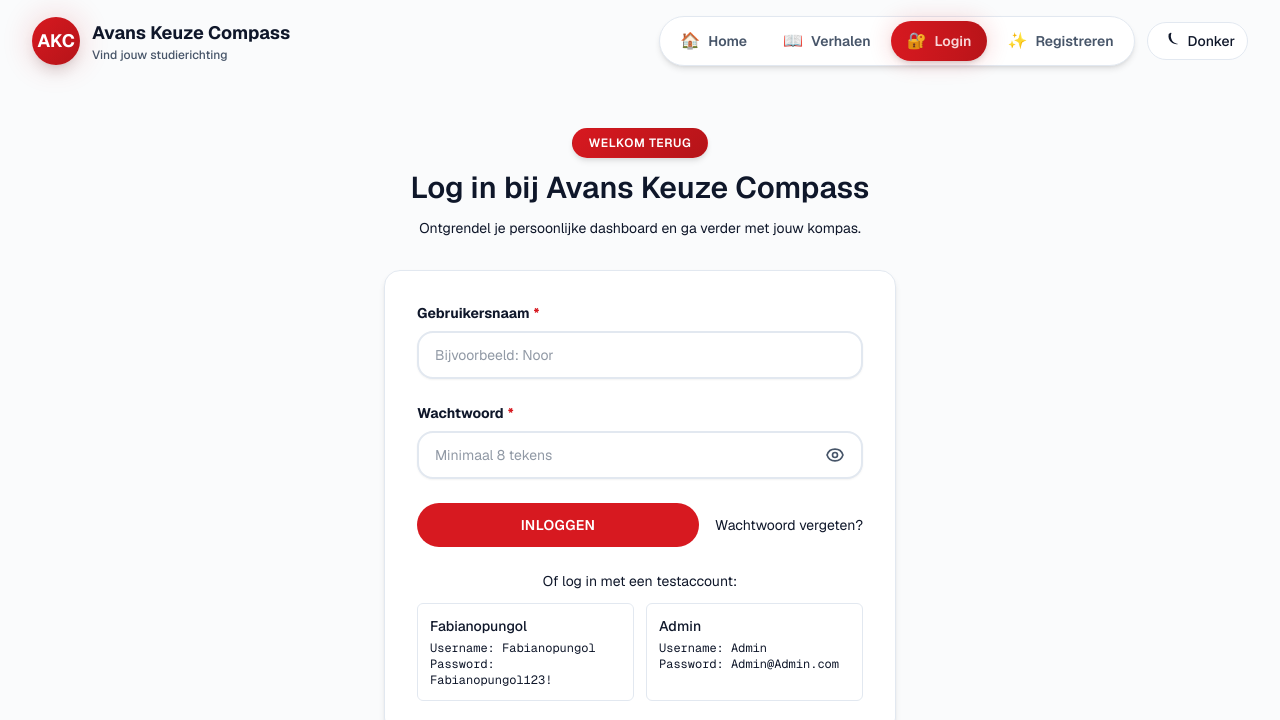
Test: Login Page E2E Tests › should show validation error for short password
The image size is (1280, 720).
Type "testuser" into the field with id "username" at point(640, 355), box [417,331,863,379]
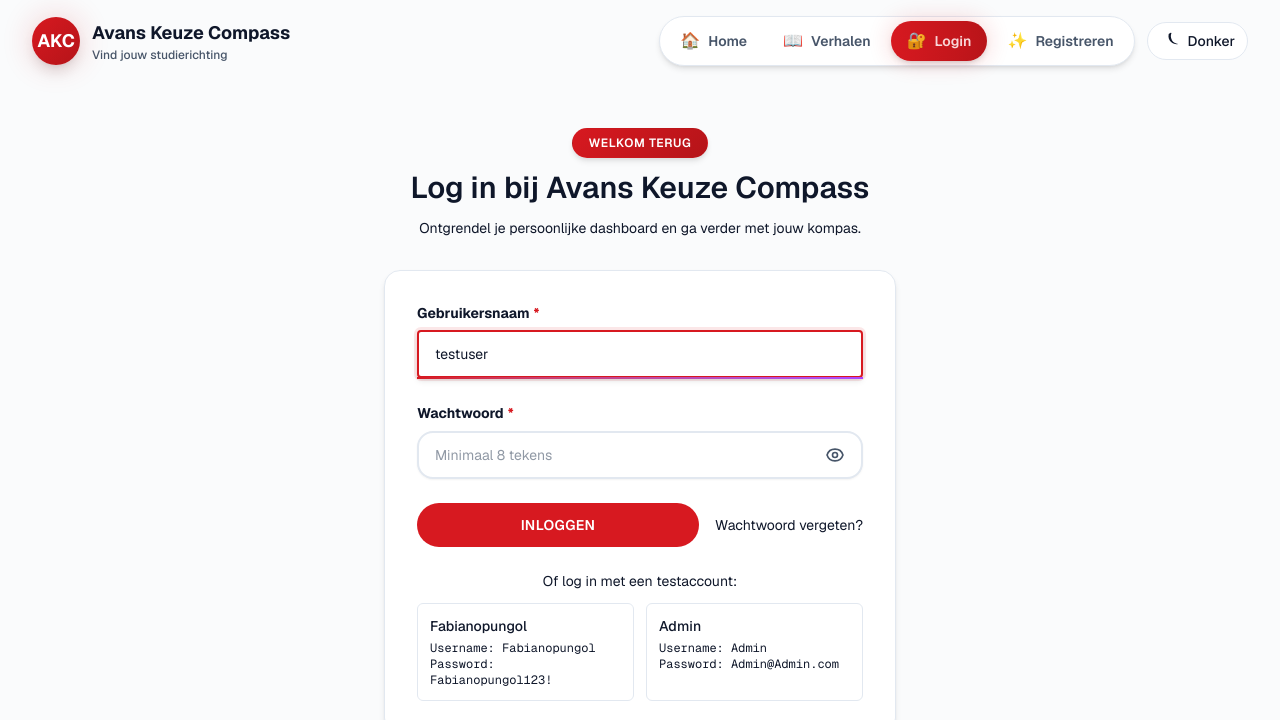
Type "short" into the password field labelled "Wachtwoord*" at point(640, 455), box [417,431,863,479]
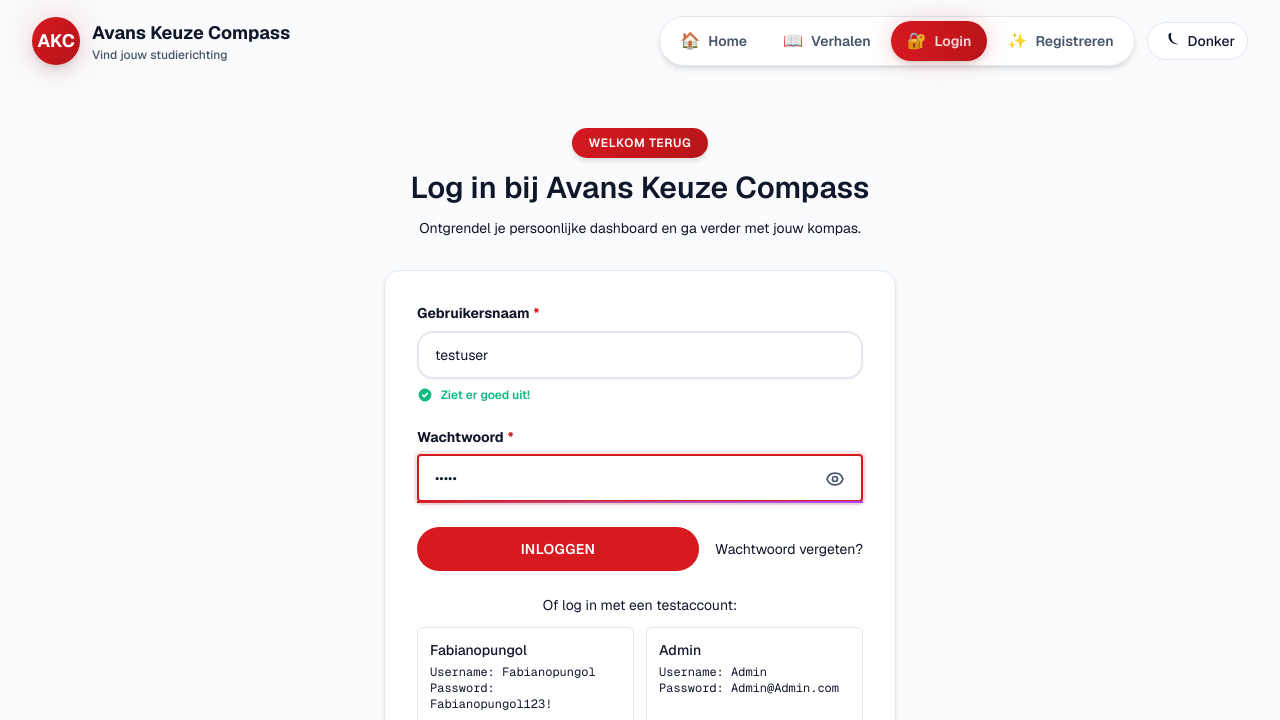
Click the submit button at point(558, 549), box [417,527,699,571]
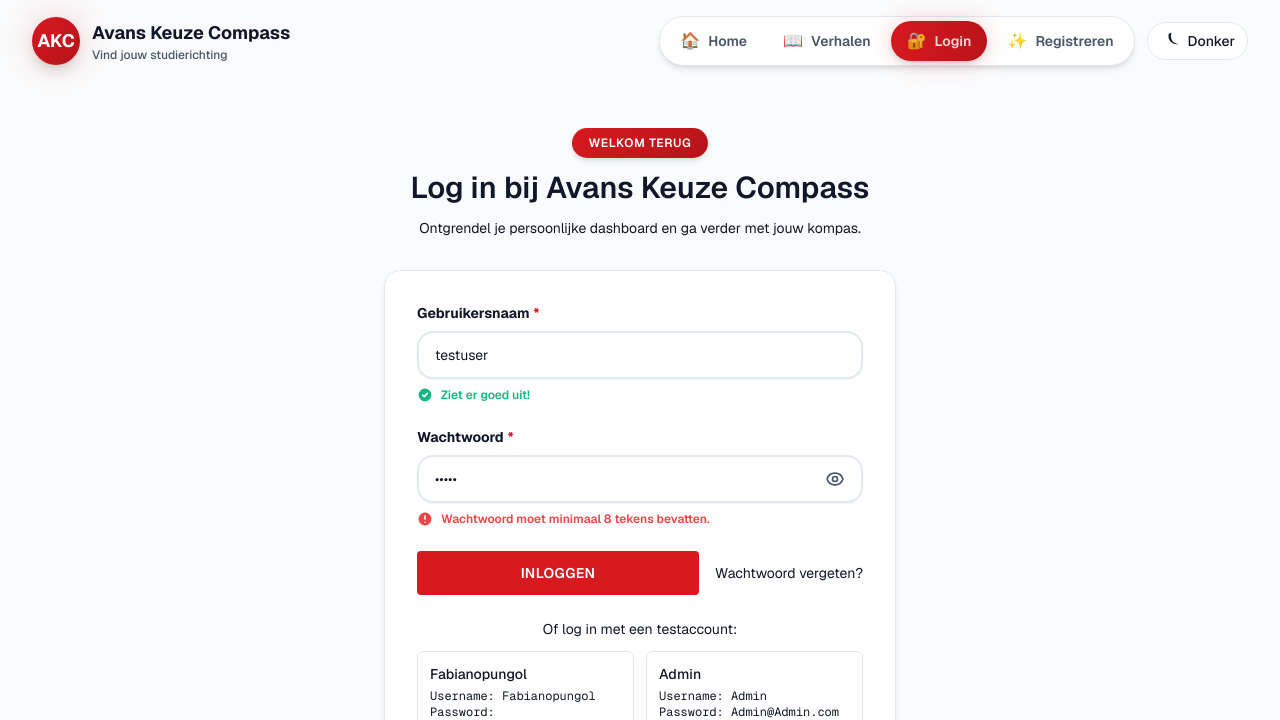
expect the text "Wachtwoord moet minimaal 8 tekens bevatten" is shown: met, box [441,511,710,527]
